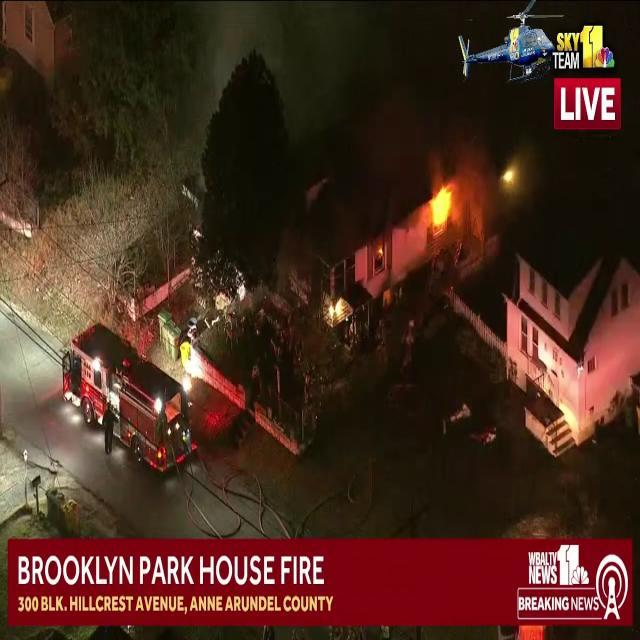Fire: (426, 178, 458, 234), (324, 289, 348, 328)
